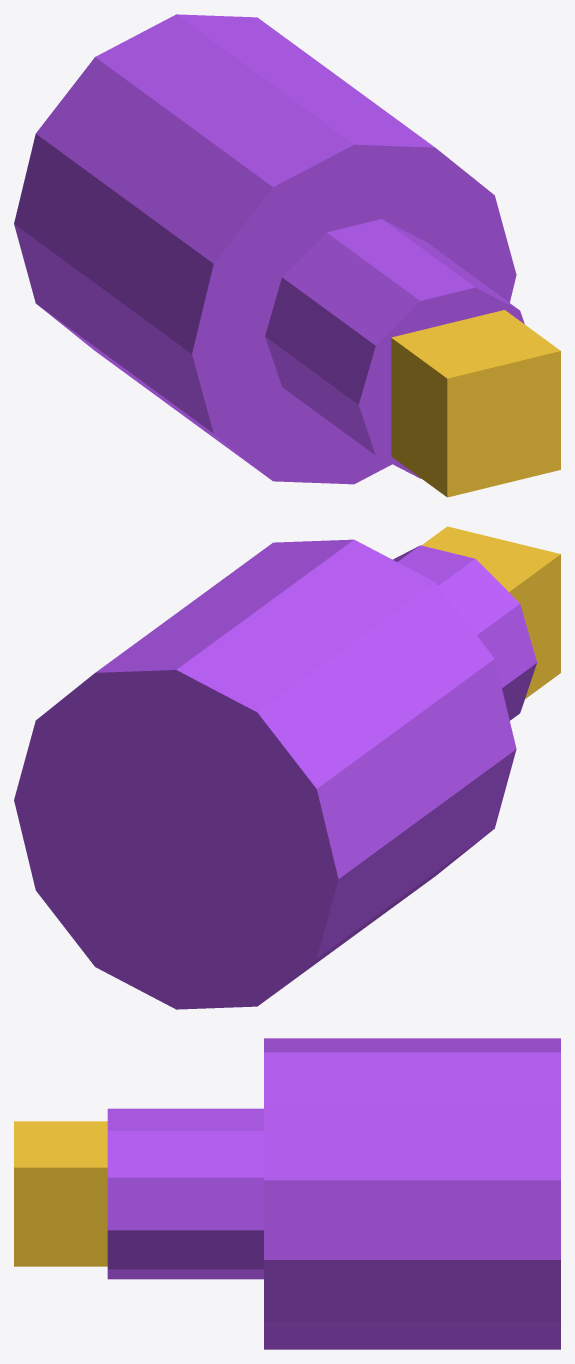
The model's file is magic_potion.glb.
3 renders of one model, top to bottom at view 1: azimuth 30°, elevation 25°; view 2: azimuth 150°, elevation 25°; view 3: azimuth 270°, elevation 25°, orthographic. The views are drawn at different scales.
Parts seen in each view (by area): view 1: part_0, part_1, part_2; view 2: part_0, part_1, part_2; view 3: part_0, part_1, part_2.
Part boxes in pixels (x1=…): part_0: x1=14, y1=14, x2=516, y2=484; part_1: x1=265, y1=219, x2=524, y2=478; part_2: x1=391, y1=310, x2=560, y2=497; part_0: x1=14, y1=539, x2=516, y2=1009; part_1: x1=393, y1=545, x2=537, y2=720; part_2: x1=421, y1=526, x2=560, y2=698; part_0: x1=264, y1=1038, x2=560, y2=1349; part_1: x1=107, y1=1108, x2=263, y2=1279; part_2: x1=14, y1=1121, x2=107, y2=1266.
Size of the model in its own units: 0.4 by 0.4 by 0.7.
